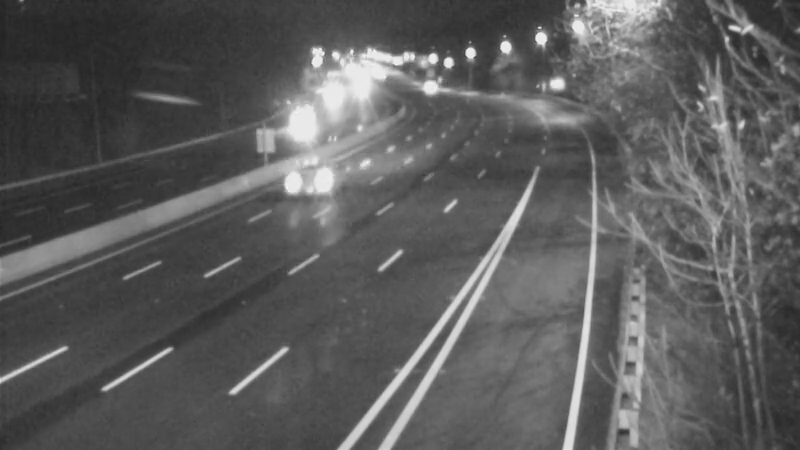vehicle: (270, 140, 350, 220), (400, 61, 450, 111), (273, 105, 323, 155), (306, 68, 356, 118)
